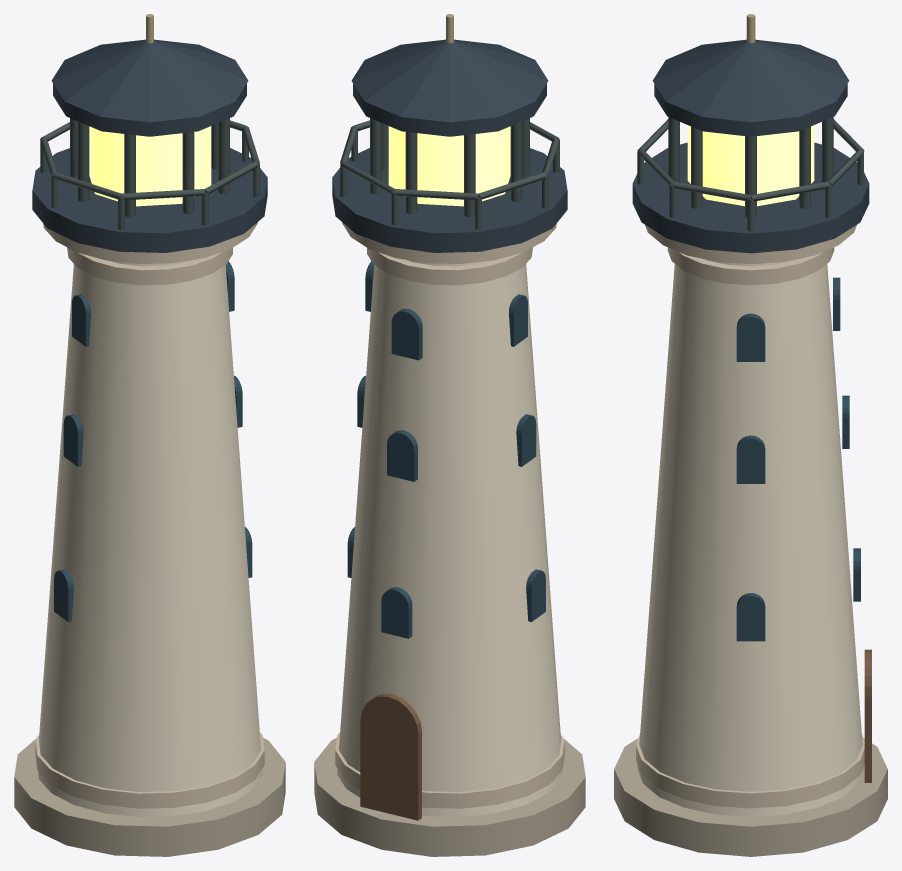
Rendered from planet_lighthouse.glb.
3 renders of one model, left to right at view 1: azimuth 30°, elevation 25°; view 2: azimuth 150°, elevation 25°; view 3: azimuth 270°, elevation 25°, orthographic.
Parts seen in each view (by area): view 1: Ivory taper, Stone footing, Conical cap, Lantern floor, Amber lantern, Tower cornice, Tower cornice.001, Lantern cap, Tower cornice.002, Lantern frame.002, Lantern frame.004, Side slit window.002 (+6 smaller); view 2: Ivory taper, Stone footing, Conical cap, Lantern floor, Lighthouse entry, Amber lantern, Tower cornice, Tower cornice.001, Lantern cap, Tower cornice.002, Deep blue window, Deep blue window.002 (+10 smaller); view 3: Ivory taper, Stone footing, Lantern floor, Conical cap, Amber lantern, Tower cornice, Tower cornice.001, Lantern cap, Tower cornice.002, Side slit window.001, Side slit window.003, Side slit window.005 (+8 smaller).
Boxes of the visible parts, x1,y1,x2,y2 form: Ivory taper: (38,260,262,816); Stone footing: (14,738,285,856); Conical cap: (51,39,248,122); Lantern floor: (32,148,267,252); Amber lantern: (89,126,211,206); Tower cornice: (35,732,264,808); Tower cornice.001: (67,247,232,285); Lantern cap: (53,83,246,136); Tower cornice.002: (43,222,257,263); Lantern frame.002: (182,132,194,213); Lantern frame.004: (77,121,89,201); Side slit window.002: (63,414,83,466); Ivory taper: (337,260,561,816); Stone footing: (314,738,585,856); Conical cap: (351,39,548,122); Lantern floor: (332,148,567,252); Lighthouse entry: (360,693,421,820); Amber lantern: (388,126,510,206); Tower cornice: (335,732,564,808); Tower cornice.001: (367,247,532,285); Lantern cap: (353,83,546,136); Tower cornice.002: (342,222,556,263); Deep blue window: (381,587,412,638); Deep blue window.002: (391,308,422,360); Ivory taper: (637,259,864,816); Stone footing: (614,738,887,856); Lantern floor: (632,142,869,253); Conical cap: (652,39,849,122); Amber lantern: (687,125,814,206); Tower cornice: (636,734,864,808); Tower cornice.001: (667,247,834,285); Lantern cap: (654,84,847,136); Tower cornice.002: (645,225,856,264); Side slit window.001: (736,593,765,641); Side slit window.003: (736,435,765,483); Side slit window.005: (736,313,765,361).
Bounding box in the file's own units: 1.64 × 5.18 × 1.64.
